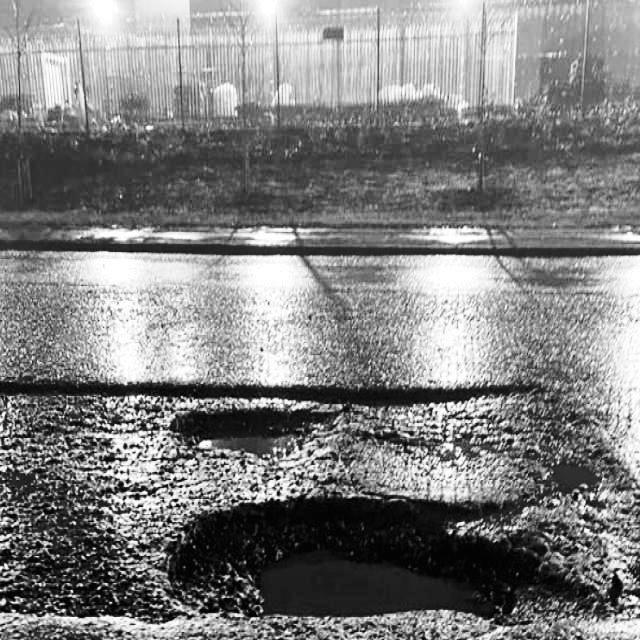Pothole: (171, 480, 537, 637), (170, 391, 335, 461), (559, 446, 605, 503)
